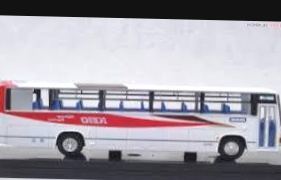bus: (0, 80, 281, 169)
